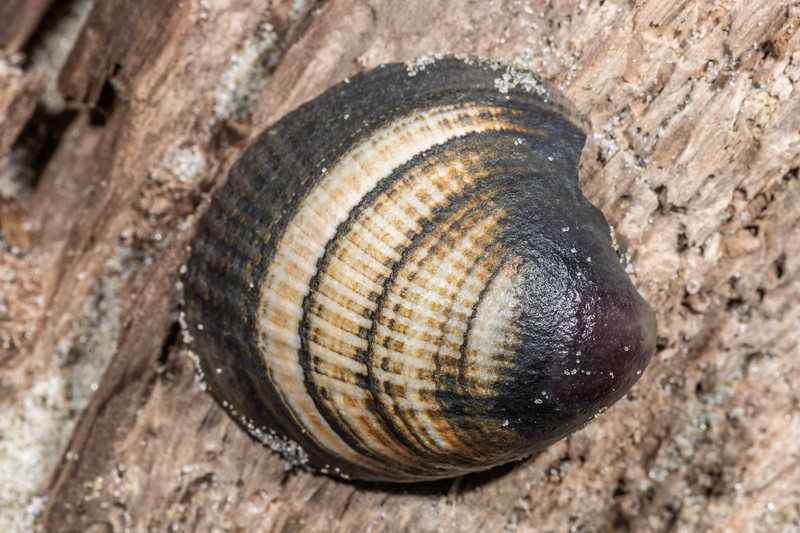cockle: (179, 54, 664, 498)
